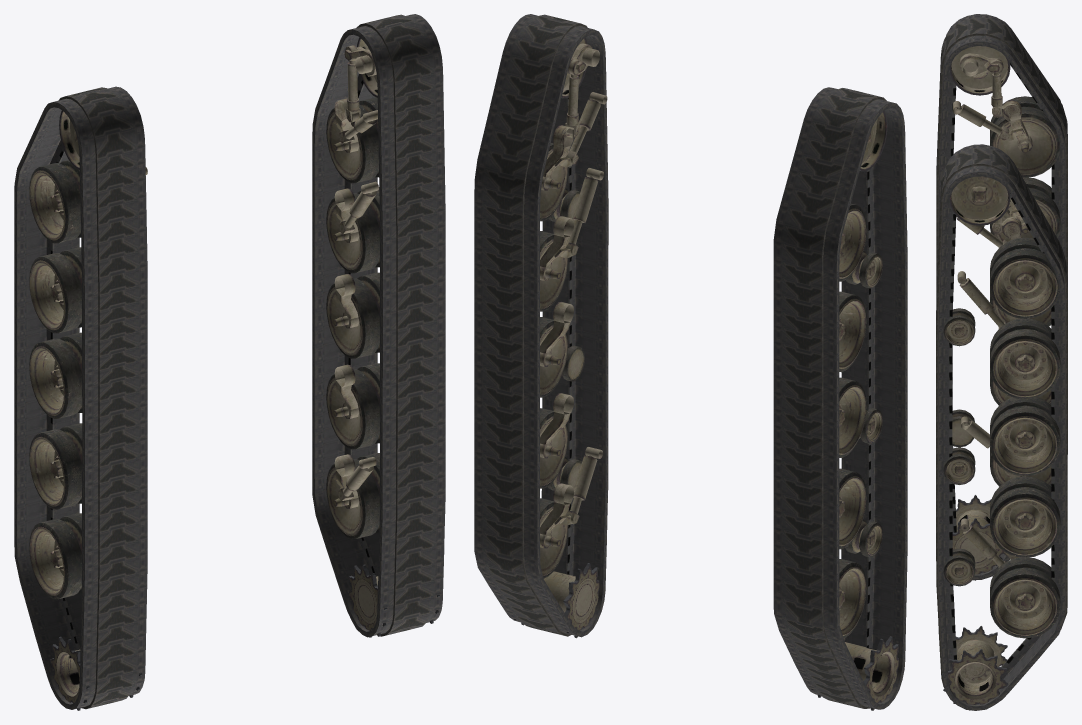
Rendered from Chassis.glb.
The picture shows the model from 3 angles, left to right: view 1: azimuth 30°, elevation 25°; view 2: azimuth 150°, elevation 25°; view 3: azimuth 270°, elevation 25°; orthographic projection. The views are drawn at different scales.
Parts seen in each view (by area): view 1: set_0_group_0, set_1_group_0, set_3_group_0, set_2_group_0; view 2: set_0_group_0, set_1_group_0, set_3_group_0, set_2_group_0; view 3: set_3_group_0, set_1_group_0, set_2_group_0, set_0_group_0.
Part boxes in pixels (x1,y1,x2,y2): set_0_group_0: (14,86,147,709); set_1_group_0: (312,14,445,637); set_3_group_0: (326,37,439,637); set_2_group_0: (29,110,147,710); set_0_group_0: (773,87,907,709); set_1_group_0: (474,14,608,637); set_3_group_0: (513,37,607,638); set_2_group_0: (811,111,898,710); set_3_group_0: (941,176,1060,710); set_1_group_0: (936,144,1067,710); set_2_group_0: (949,46,1060,580); set_0_group_0: (936,14,1067,580).
Size of the model in its own units: 3.5 by 5.62 by 1.24.
Materials: 4 (4 with a texture image).
